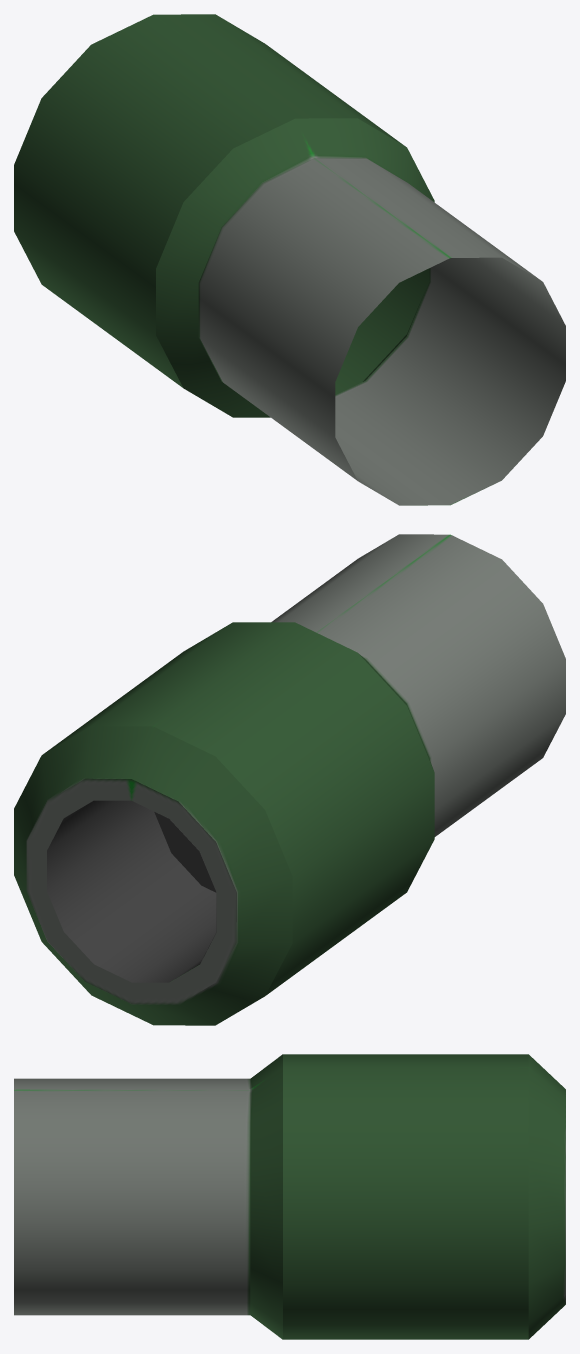
File: Cannon.fbx
3 views of the same model, one above another, from view 1: azimuth 30°, elevation 25°; view 2: azimuth 150°, elevation 25°; view 3: azimuth 270°, elevation 25° (orthographic). The views are drawn at different scales.
Parts seen in each view (by area): view 1: polySurface10; view 2: polySurface10; view 3: polySurface10.
Part boxes in pixels (x1=…): polySurface10: x1=14, y1=14, x2=565, y2=505; polySurface10: x1=14, y1=534, x2=565, y2=1025; polySurface10: x1=14, y1=1054, x2=565, y2=1339.
Bounding box in the file's own units: 1.11 × 1.14 × 2.2.
1 material, 1 textured.
